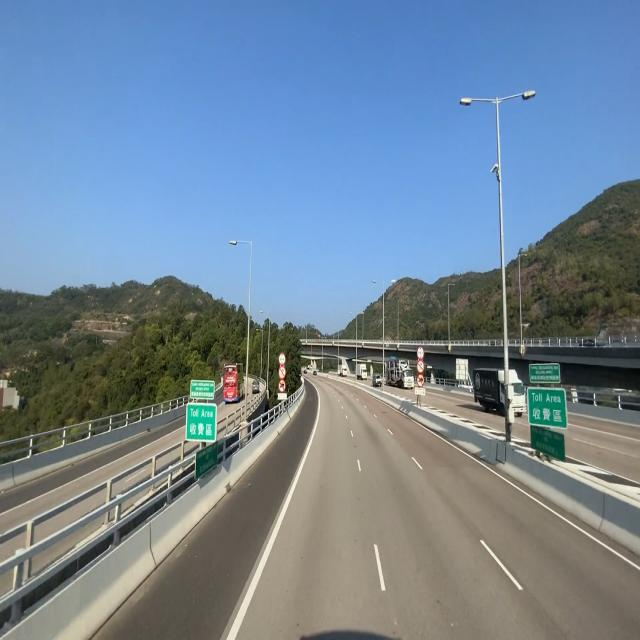Car: (467, 366, 526, 422), (222, 357, 246, 406)
